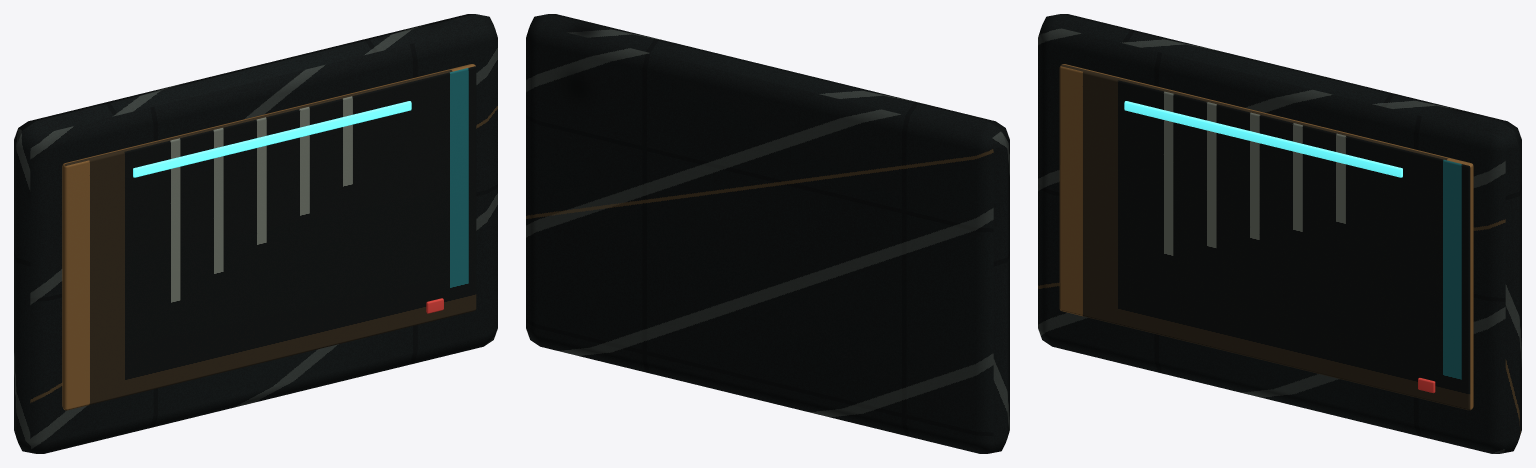
File: hp_room_museum_wall_label_panel.glb
3 renders of one model, left to right at view 1: azimuth 30°, elevation 25°; view 2: azimuth 150°, elevation 25°; view 3: azimuth 330°, elevation 25°, orthographic.
Parts seen in each view (by area): view 1: image2_label_readable_face, wall_label_backplate, small_cyan_catalogue_line; view 2: wall_label_backplate; view 3: image2_label_readable_face, wall_label_backplate, small_cyan_catalogue_line.
Part boxes in pixels (box(x1,y1,x2,y2)): image2_label_readable_face: box(62, 64, 476, 410); wall_label_backplate: box(14, 14, 497, 453); small_cyan_catalogue_line: box(133, 101, 411, 177); wall_label_backplate: box(526, 14, 1009, 453); image2_label_readable_face: box(1059, 64, 1473, 410); wall_label_backplate: box(1038, 14, 1521, 453); small_cyan_catalogue_line: box(1124, 101, 1402, 177).
Bounding box in the file's own units: 1.12 × 0.7444 × 0.1164.
Materials: 4 (2 with a texture image).
